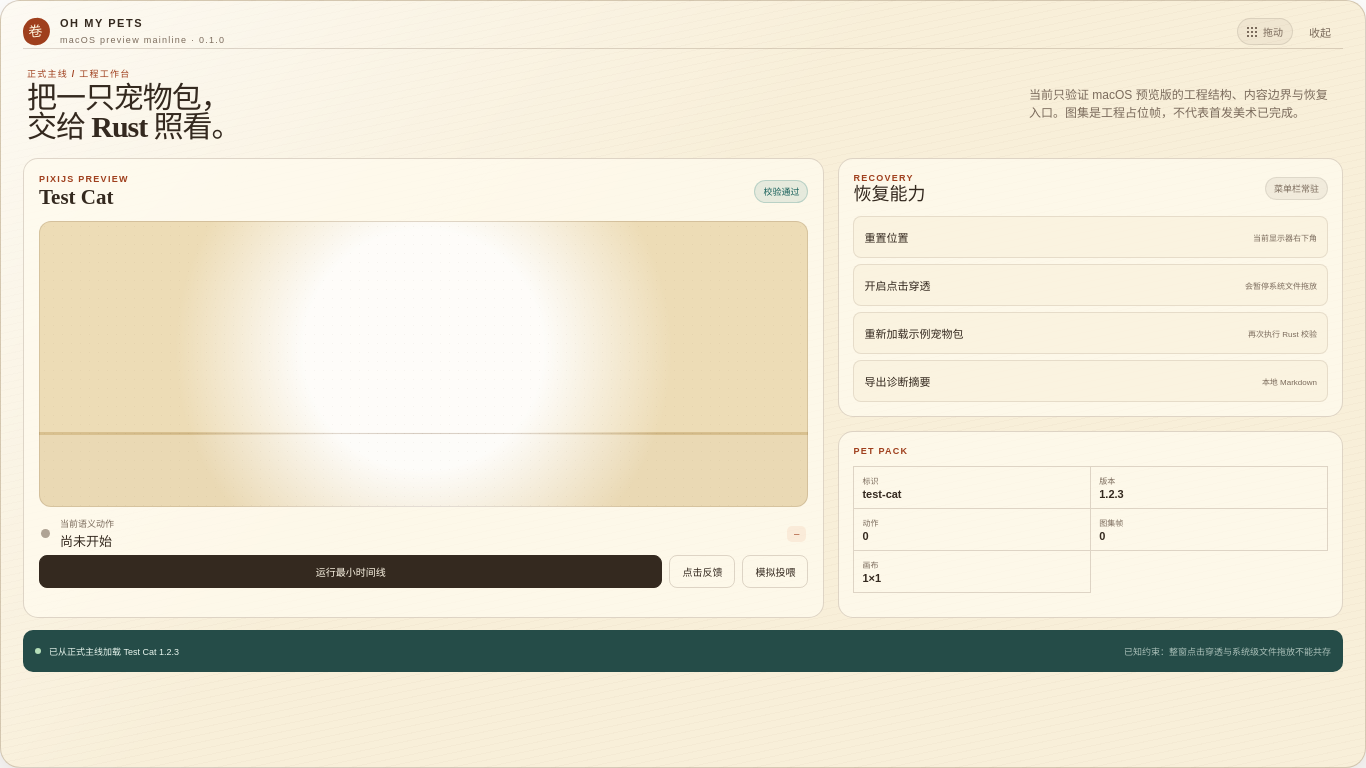
宠物包状态 › 重新加载失败后不再保留旧宠物包的成功状态
The width and height of the screenshot is (1366, 768).
Click the button "重新加载示例宠物包 再次执行 Rust 校验" at (914, 334), box 853,312 -> 1328,354
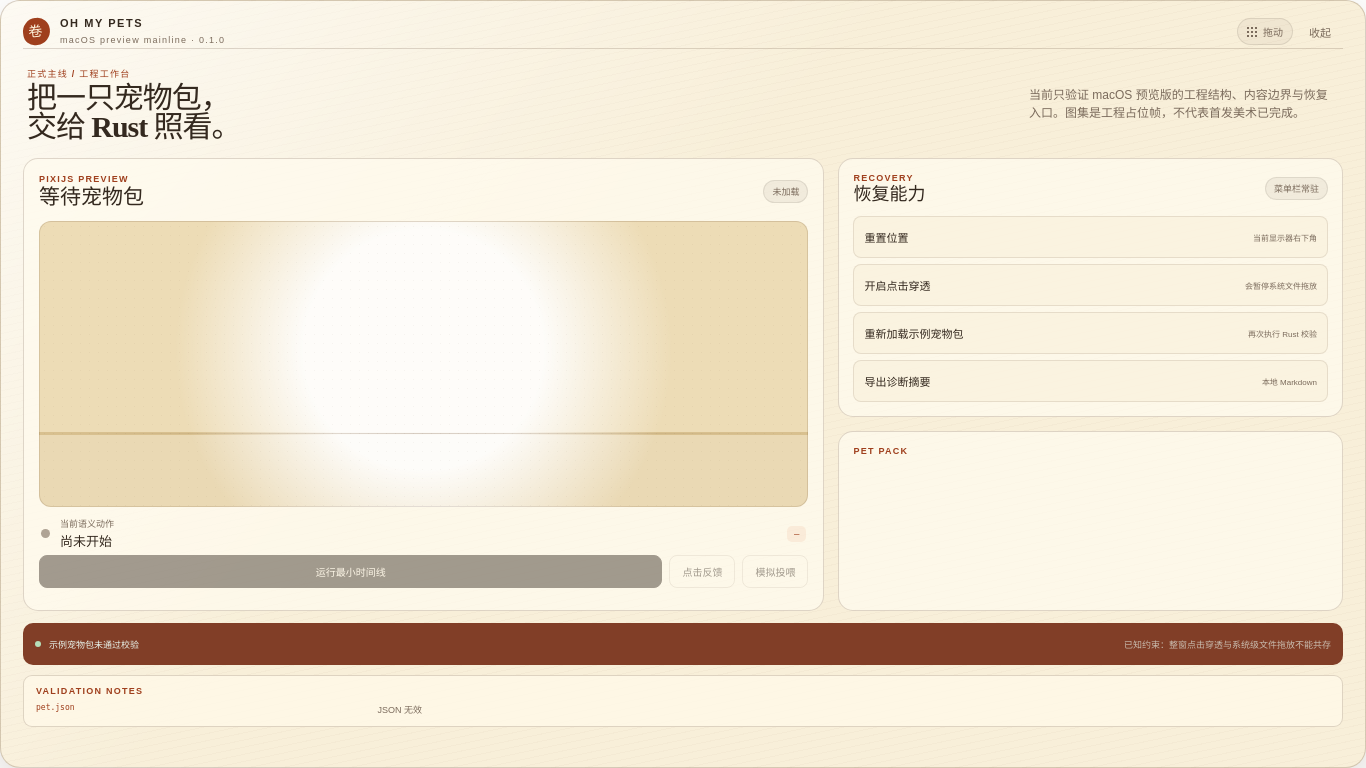
Check: the text "示例宠物包未通过校验" is shown, box 49,638 -> 139,651
Check: the text "校验通过" is gone
